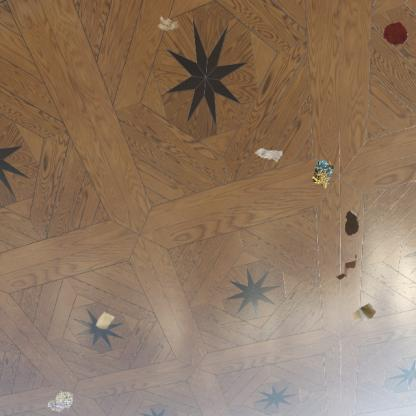dirty: (311, 158, 335, 189), (334, 252, 357, 282), (46, 390, 73, 414), (350, 301, 378, 324), (254, 147, 284, 164), (94, 309, 116, 331), (156, 15, 179, 32)
liquid: (382, 21, 408, 45), (344, 209, 360, 237)
